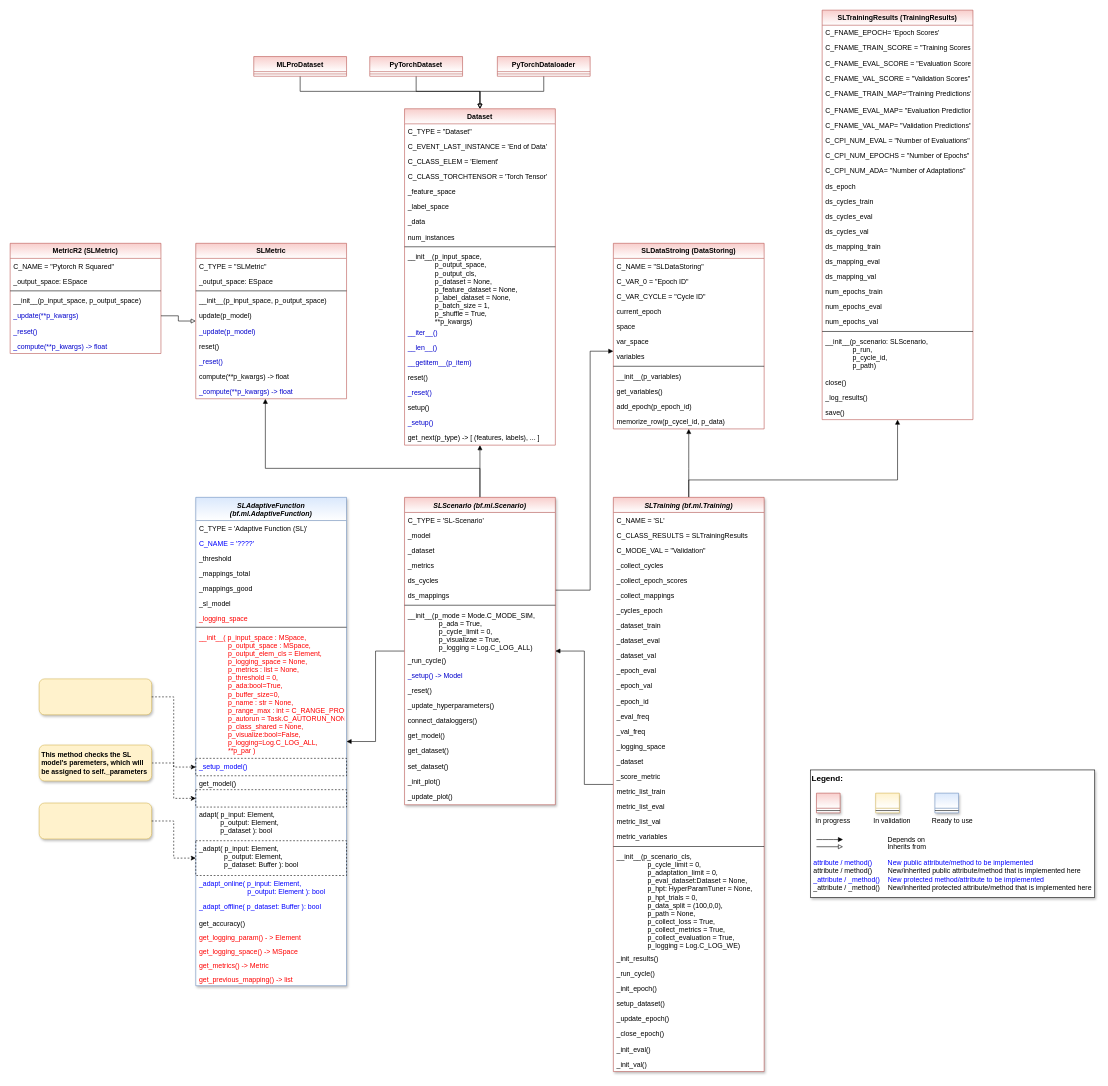
Some shapes in this 1108 by 1086 pixel diagram are drawn without their labels. The centre of each missing label's shape, as x and y in pixels:
_hyperparameters_check(): dict: point 271,798
Online learning: p_input and p_output are not None. Otherwise, offline learning: point 95,821
This method returns the SL model, which will be assigned to self._sl_model: point 95,697
